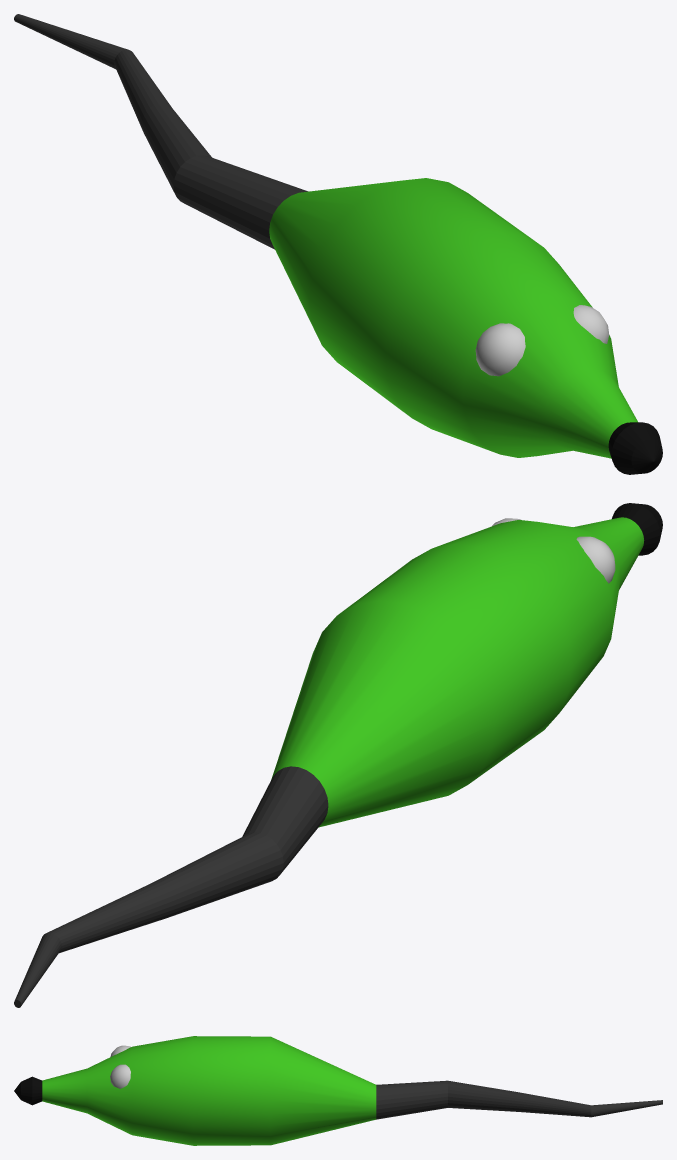
The model's file is rat.fbx.
3 views of the same model, one above another, from view 1: azimuth 30°, elevation 25°; view 2: azimuth 150°, elevation 25°; view 3: azimuth 270°, elevation 25° (orthographic). The views are drawn at different scales.
Visible parts, largest first — view 1: Cone001; view 2: Cone001; view 3: Cone001.
Boxes of the visible parts, x1=… form: Cone001: x1=14, y1=14, x2=662, y2=474; Cone001: x1=14, y1=503, x2=662, y2=1007; Cone001: x1=14, y1=1036, x2=662, y2=1145.
Bounding box in the file's own units: 15.37 × 15.37 × 90.55.
